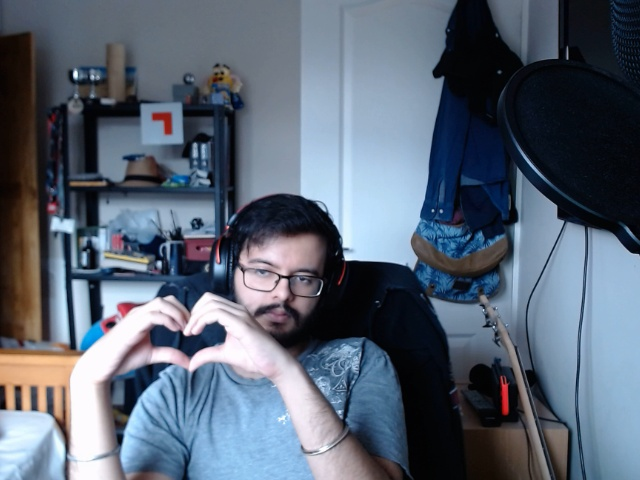Heart: (95, 290, 264, 384)
